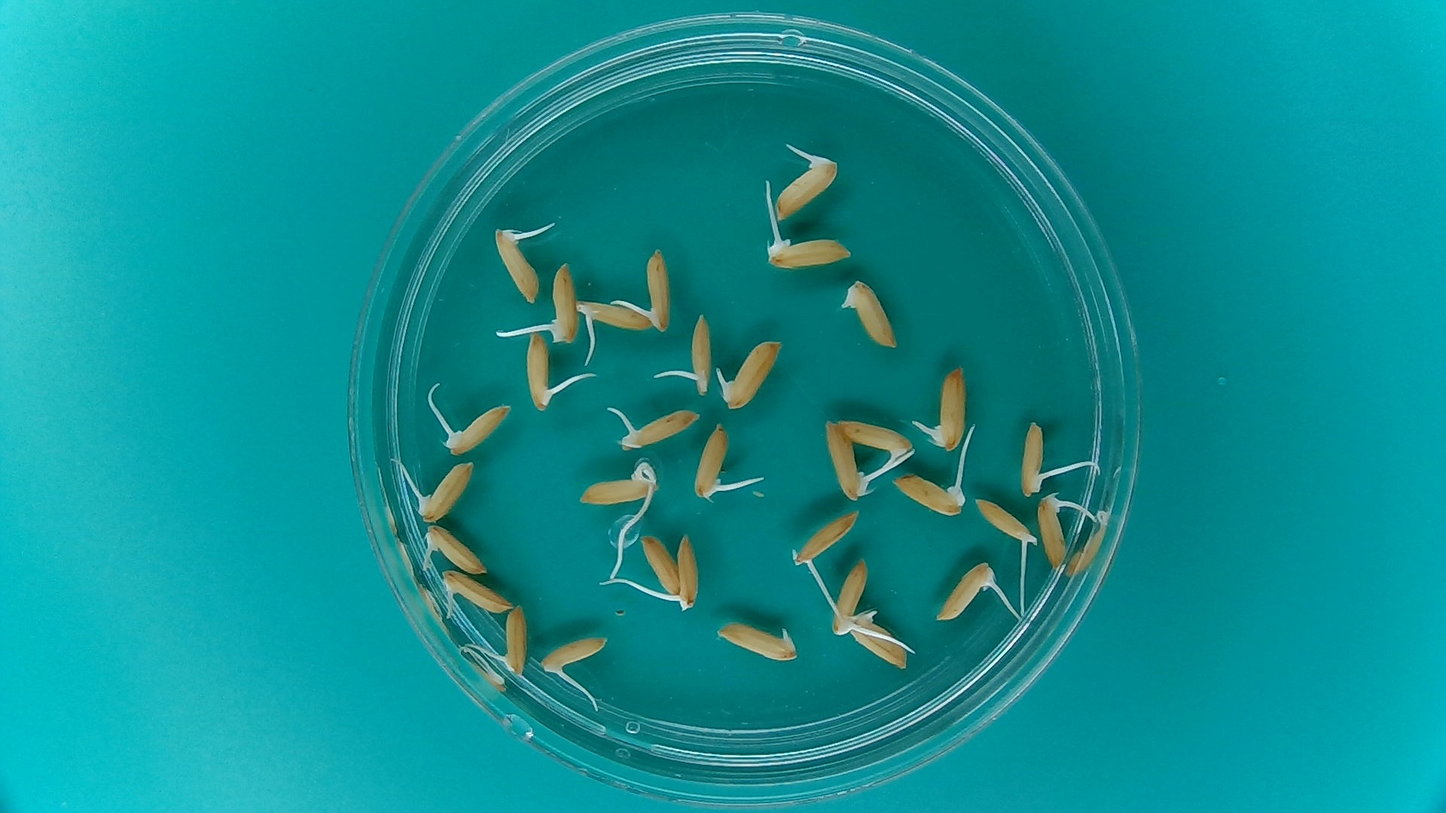no: (638, 534, 681, 593)
yes: (490, 220, 552, 306), (717, 333, 786, 410), (767, 150, 834, 220), (844, 273, 903, 351), (609, 404, 703, 450), (932, 561, 999, 624), (436, 401, 514, 455), (822, 423, 880, 495), (837, 416, 917, 468), (791, 508, 862, 566), (926, 362, 971, 453), (410, 460, 476, 522), (760, 231, 857, 272), (712, 619, 800, 663), (691, 420, 737, 504), (846, 610, 908, 671), (973, 495, 1040, 551), (889, 470, 968, 517), (577, 462, 660, 506), (673, 309, 714, 397), (438, 568, 514, 614), (522, 328, 563, 413), (423, 523, 490, 575), (573, 297, 656, 338), (826, 553, 868, 634), (541, 257, 579, 346), (539, 633, 615, 677), (1036, 491, 1072, 573), (1015, 416, 1051, 497), (645, 245, 676, 334), (673, 531, 703, 614), (499, 603, 529, 678)
